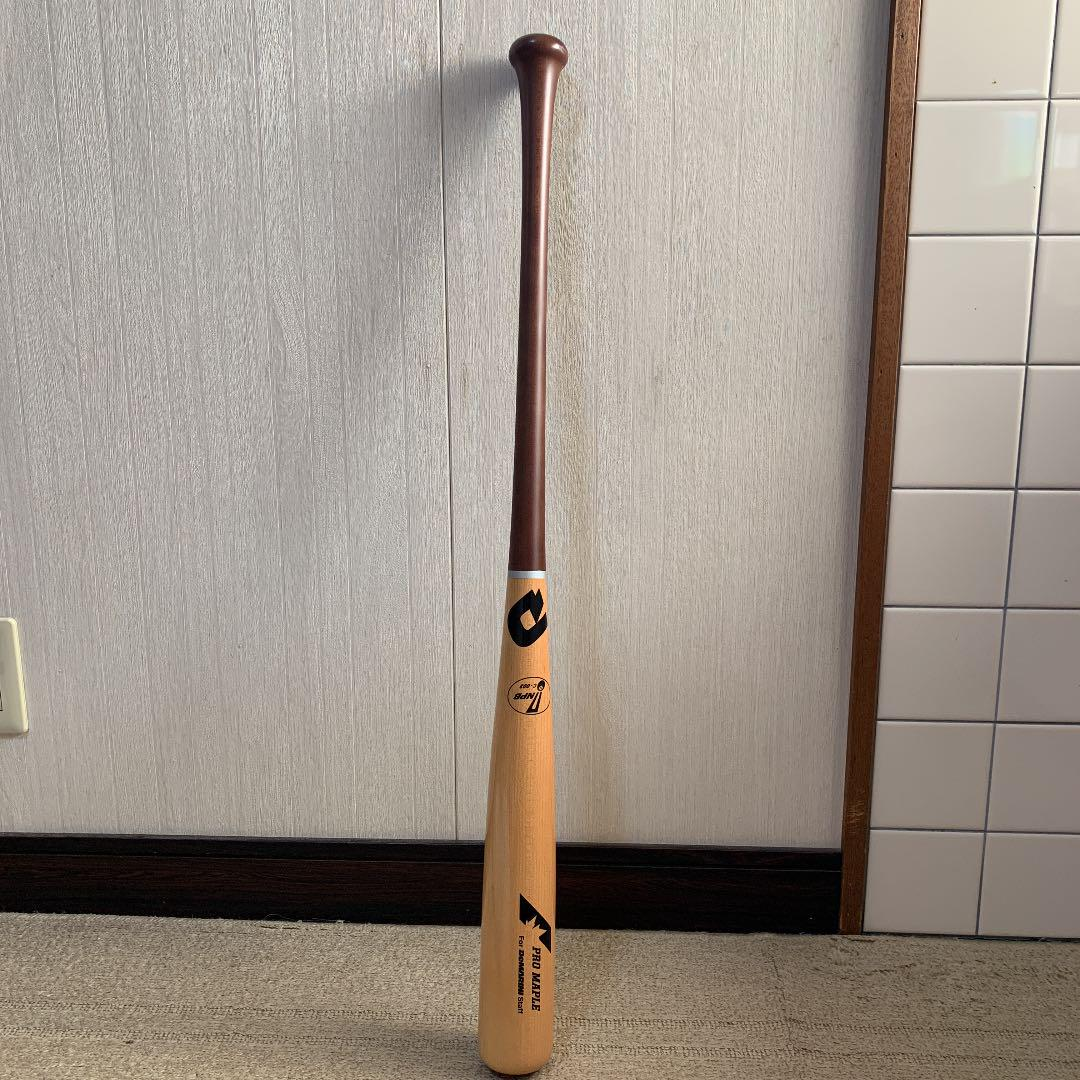bat: (471, 32, 565, 1073)
